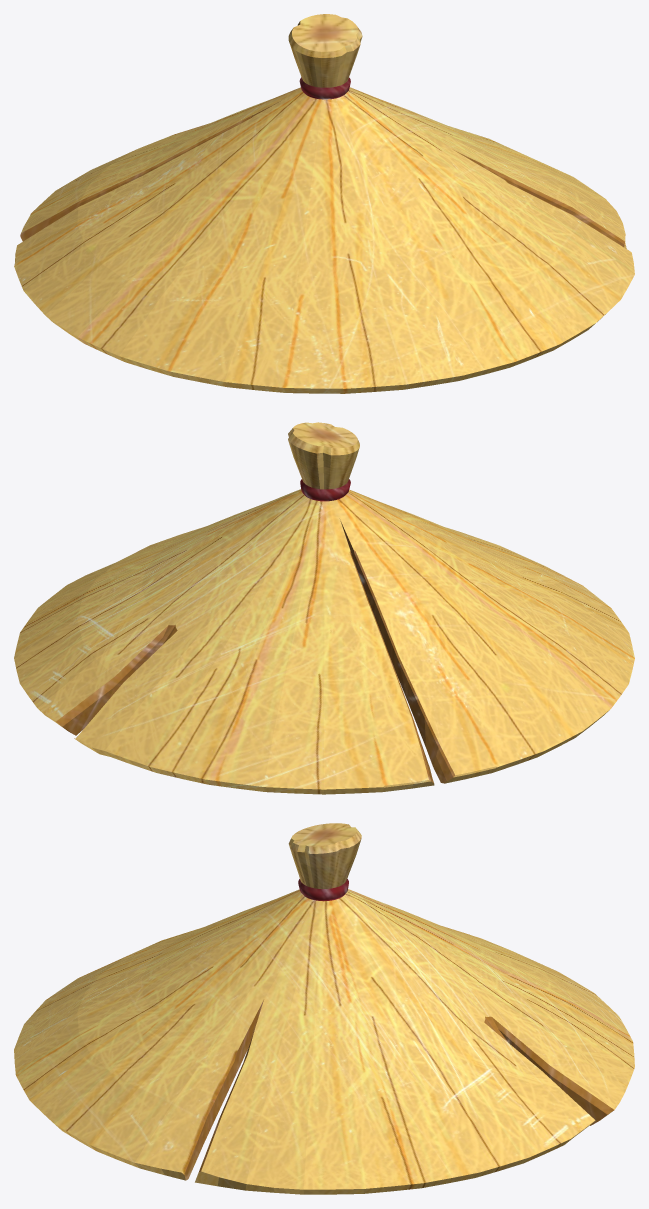
Rendered from AsianConicalHat.gltf.
3 renders of one model, top to bottom at view 1: azimuth 30°, elevation 25°; view 2: azimuth 150°, elevation 25°; view 3: azimuth 270°, elevation 25°, orthographic.
Parts seen in each view (by area): view 1: AsianConicalHat; view 2: AsianConicalHat; view 3: AsianConicalHat.
Part boxes in pixels (left/top/right/bottom): AsianConicalHat: left=14, top=14, right=634, bottom=393; AsianConicalHat: left=14, top=422, right=634, bottom=794; AsianConicalHat: left=14, top=823, right=634, bottom=1194.
Size of the model in its own units: 2.42 by 1.06 by 2.42.
1 material, 1 textured.
